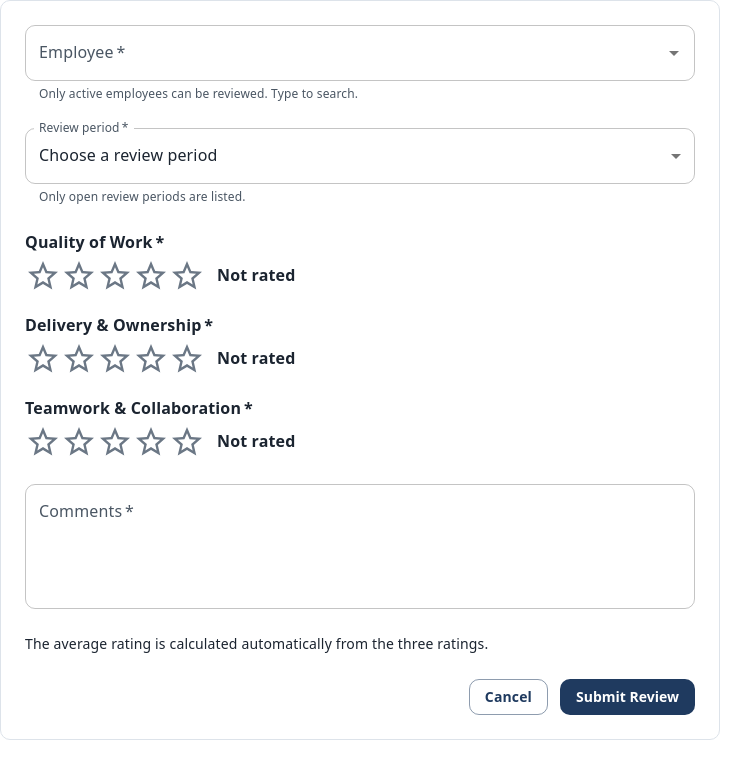
Scenario: SubmitReviewForm: choosing an employee and a period › says when nobody matches
Type "zzz" into the dropdown labelled "Employee *".
click(345, 53); type("zzz")  # box [34,34,656,72]
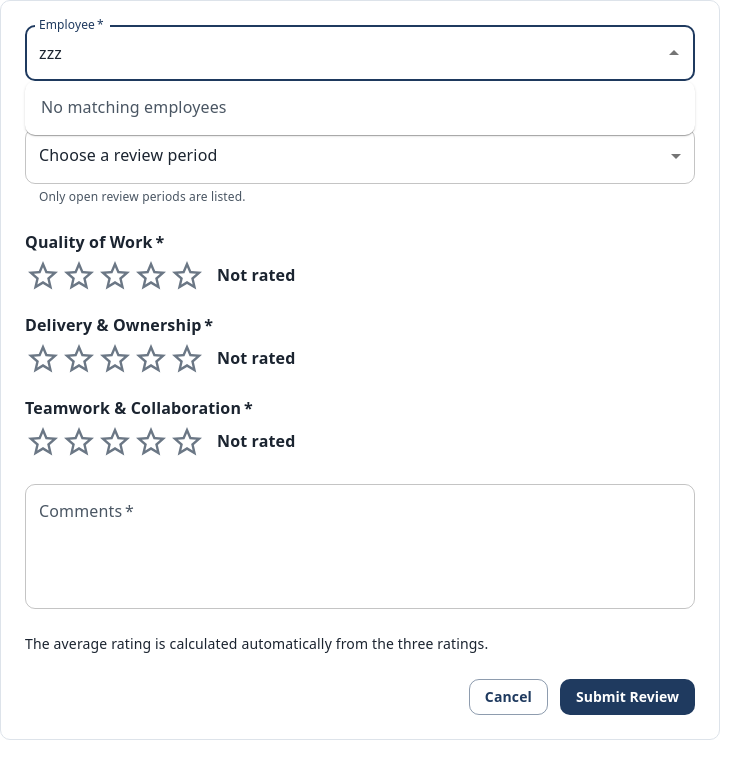
Expected: the text "No matching employees" is shown, [41,96,227,118]
